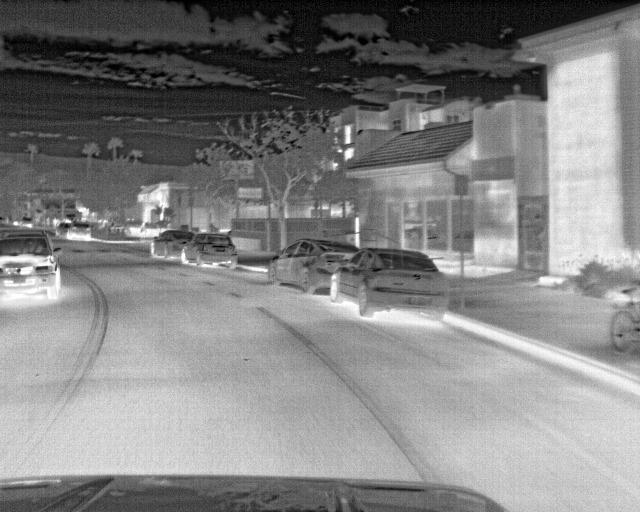bicycle: (606, 290, 637, 359)
car: (329, 248, 455, 331), (265, 237, 359, 299), (0, 234, 62, 308), (180, 232, 238, 271), (149, 229, 193, 260), (65, 222, 95, 241)
